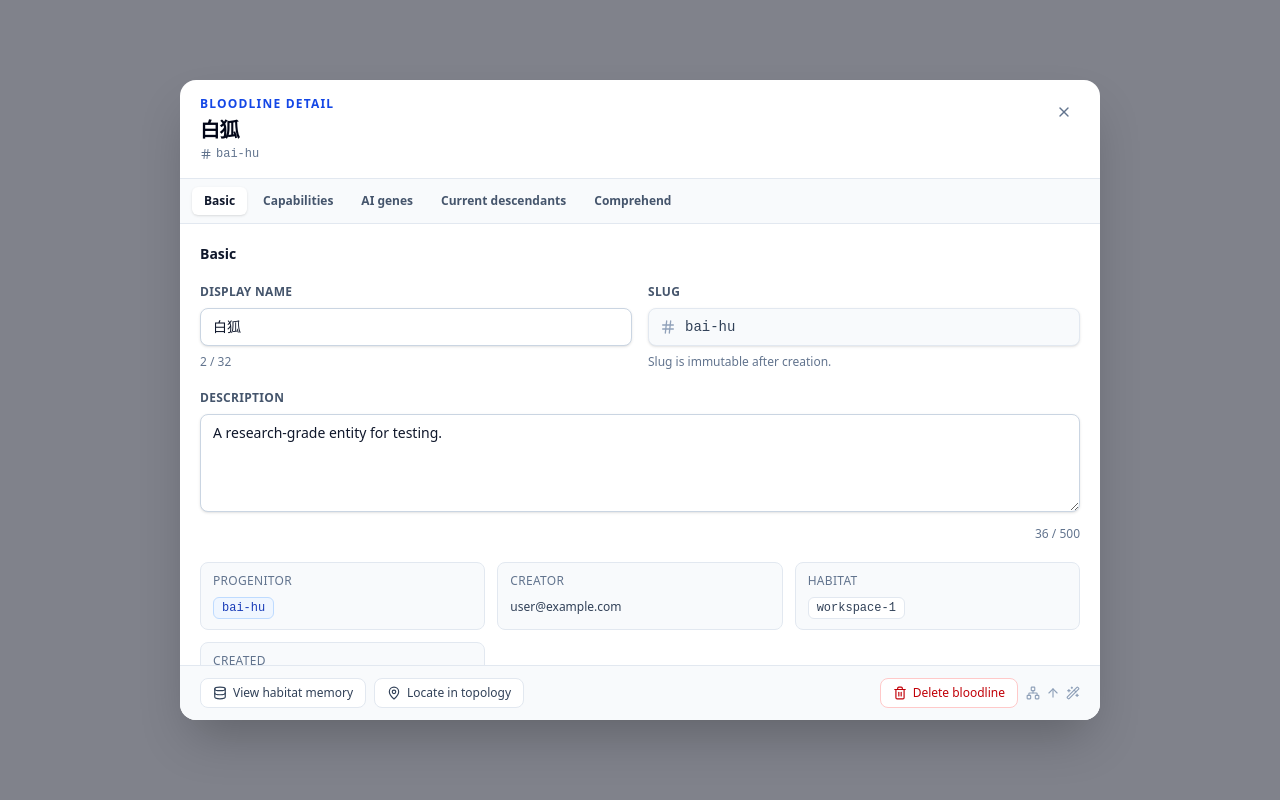
EntityDetailModal › opens gene attach picker when add extra is clicked
expect the heading "白狐" is shown: met, box [200,116,239,143]
What coordinates should you click on to do the following:
click the tab with test id "entity-tab-ai_genes"
I would click on:
 (387, 201)
Its box is [349,187,425,215].
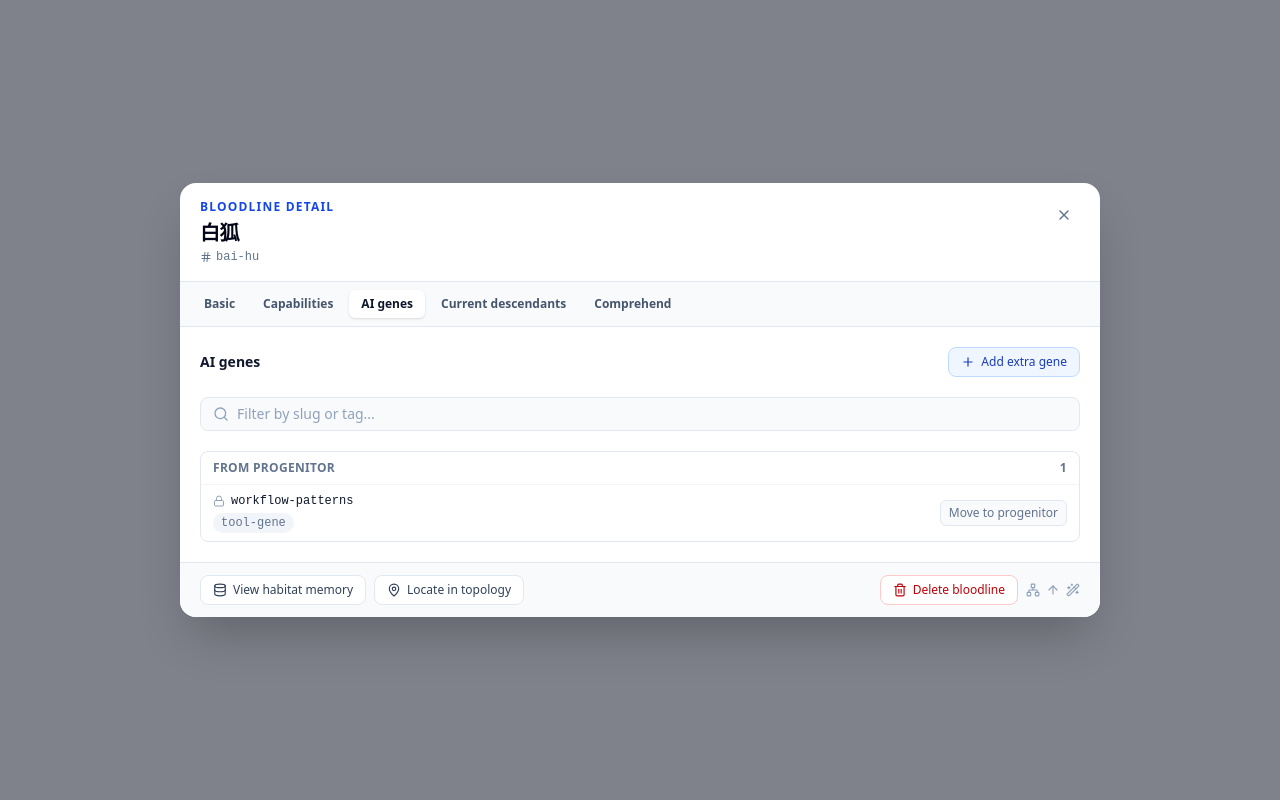
expect the button with test id "genes-add-extra" is shown: met
What coordinates should you click on to do the following:
click the button with test id "genes-add-extra"
I would click on:
 (1014, 362)
Its box is [948,347,1080,377].
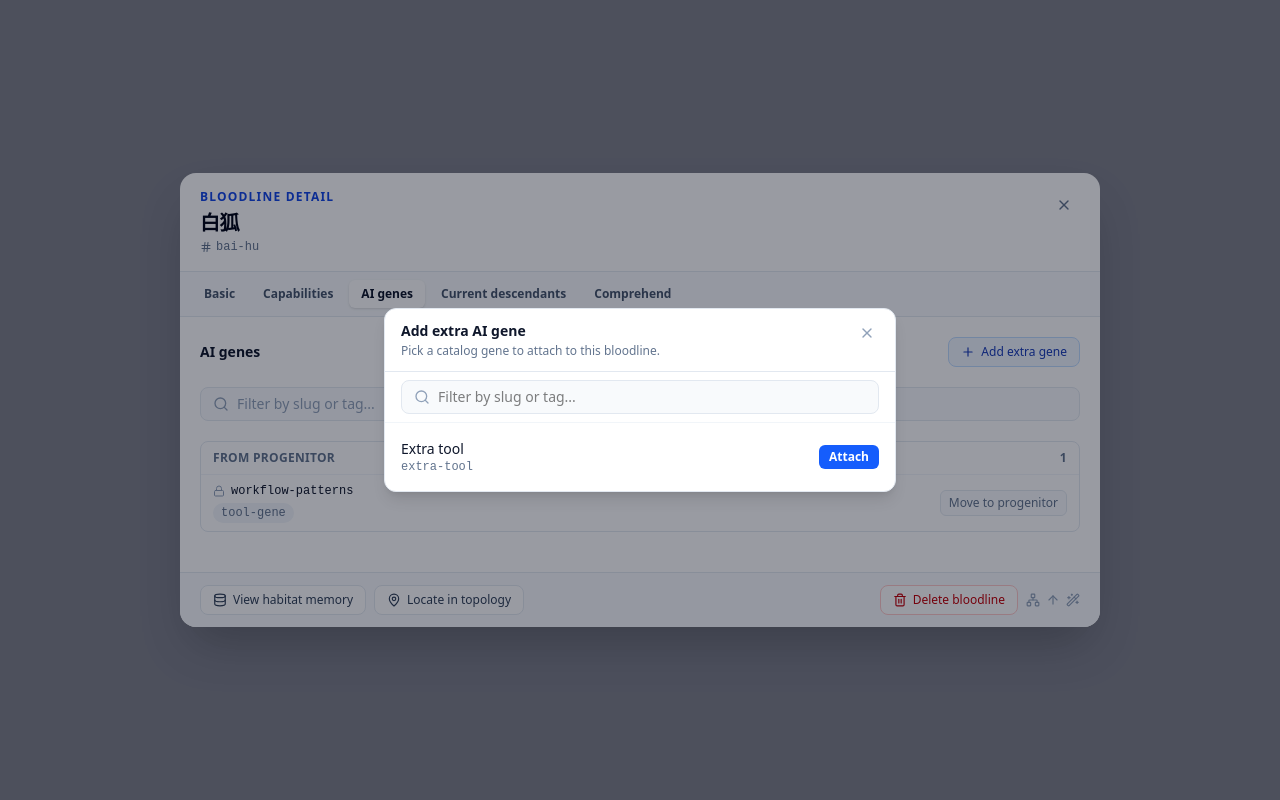
expect the dialog with test id "genes-add-modal" is shown: met
